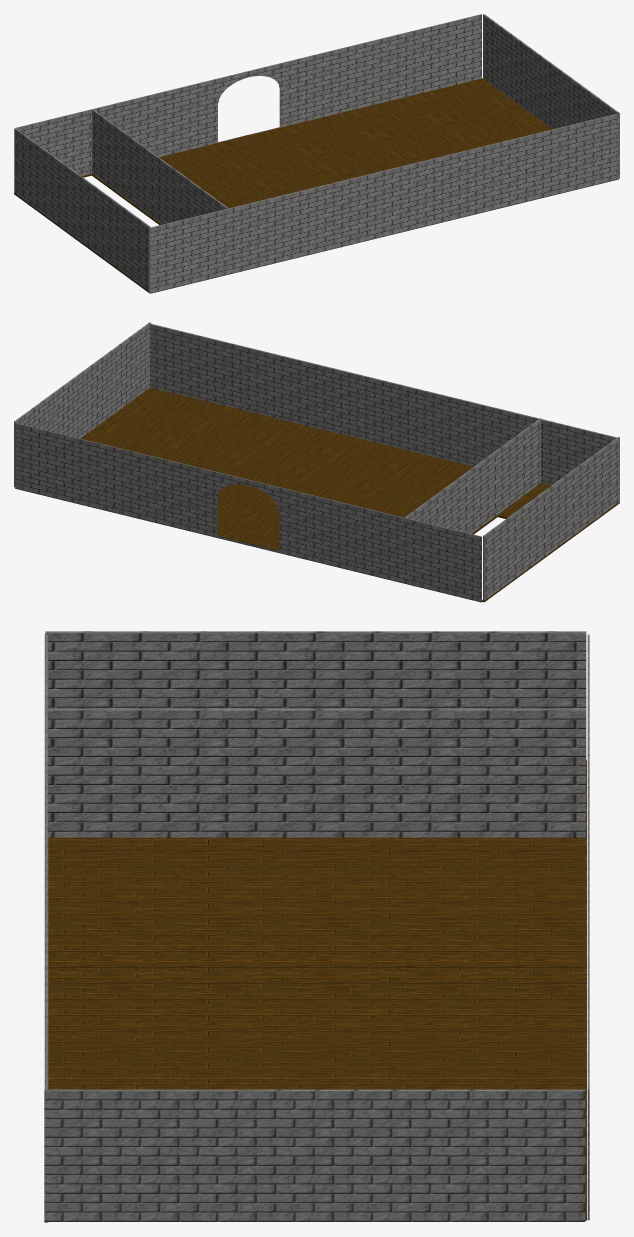
File: mansionStudy2.fbx
3 renders of one model, top to bottom at view 1: azimuth 30°, elevation 25°; view 2: azimuth 150°, elevation 25°; view 3: azimuth 270°, elevation 25°, orthographic. The views are drawn at different scales.
Parts seen in each view (by area): view 1: Cube.008, Cube, Cube.001, Cube.004, Cube.003, Cube.006; view 2: Cube.001, Cube, Cube.008, Cube.004, Cube.003, Cube.006; view 3: Cube, Cube.003, Cube.006, Cube.004, Cube.008, Cube.001.
Boxes of the visible parts, x1,y1,x2,y2 form: Cube.008: (150,113,618,293); Cube: (14,78,552,293); Cube.001: (16,14,481,175); Cube.004: (14,128,150,292); Cube.003: (483,14,619,178); Cube.006: (92,109,228,224); Cube.001: (15,423,481,602); Cube: (81,387,619,602); Cube.008: (150,323,616,485); Cube.004: (483,437,619,600); Cube.003: (14,322,150,487); Cube.006: (405,418,541,533); Cube: (48,760,586,1220); Cube.003: (44,1089,585,1221); Cube.006: (45,708,585,837); Cube.004: (45,631,586,760); Cube.008: (44,634,48,1222); Cube.001: (587,634,589,1220).
Size of the model in its own units: 2370 by 320 by 1190.
4 materials, 4 textured.
